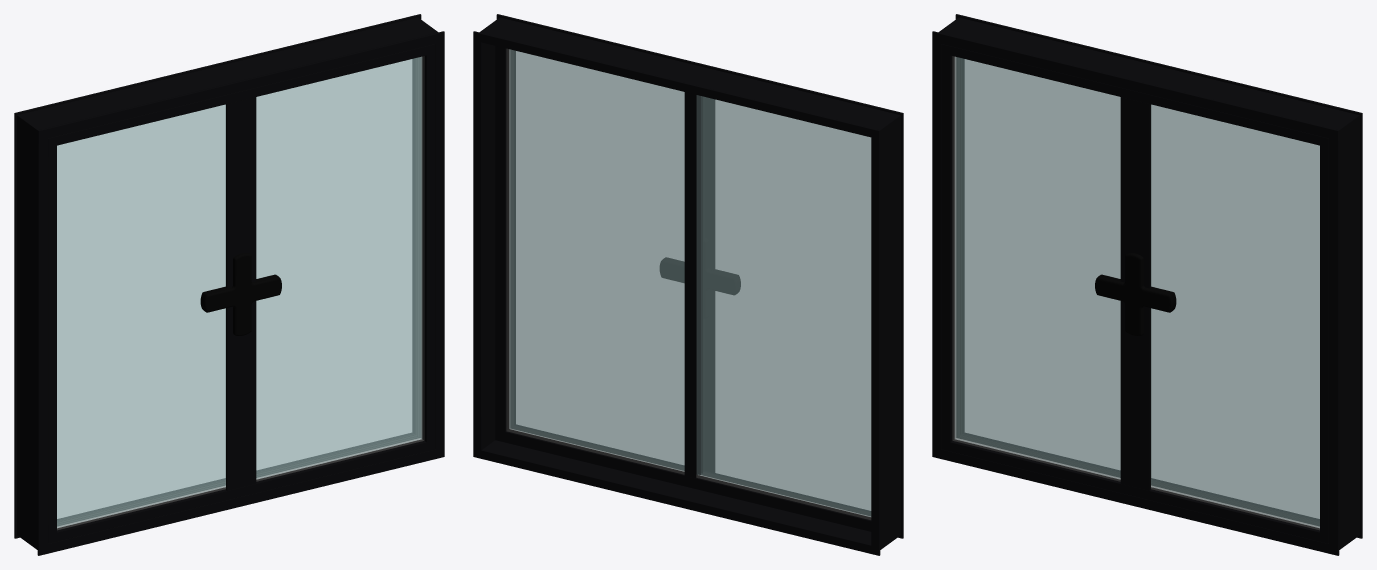
The model's file is FIXED-SYS-DIVIDER.glb.
3 views of the same model, side by side, from view 1: azimuth 30°, elevation 25°; view 2: azimuth 150°, elevation 25°; view 3: azimuth 330°, elevation 25° (orthographic).
Parts seen in each view (by area): view 1: GEO-PNL-1-1-SSH-GLZ-IN, GEO-PNL-1-1-SSH-GLZ-OUT, GEO-GRD-0-0-FRM-SIDE-L, GEO-GRD-0-0-FRM-RAIL-T, GEO-GRD-0-0-FRM-SIDE-R, GEO-GRD-0-0-FRM-RAIL-B, GEO-GRD-0-0-DIVIDER-TSEC-2-000, GEO-PNL-1-1-SSH-ANNO-FIXED-C, GEO-GRD-0-0-FRM-SIDE-L-END-B, GEO-GRD-0-0-FRM-SIDE-L-END-T, GEO-GRD-0-0-FRM-RAIL-T-END-L, GEO-GRD-0-0-FRM-RAIL-T-END-R (+6 smaller); view 2: GEO-PNL-1-1-SSH-GLZ-OUT, GEO-PNL-1-1-SSH-GLZ-IN, GEO-GRD-0-0-FRM-SIDE-R, GEO-GRD-0-0-FRM-RAIL-B, GEO-GRD-0-0-FRM-SIDE-L, GEO-GRD-0-0-FRM-RAIL-T, GEO-GRD-0-0-DIVIDER-TSEC-2-000, GEO-PNL-1-1-SSH-ANNO-FIXED-C, GEO-GRD-0-0-FRM-SIDE-R-END-B, GEO-GRD-0-0-FRM-SIDE-L-END-B, GEO-GRD-0-0-FRM-SIDE-L-END-T, GEO-GRD-0-0-FRM-RAIL-B-END-R (+5 smaller); view 3: GEO-PNL-1-1-SSH-GLZ-IN, GEO-PNL-1-1-SSH-GLZ-OUT, GEO-GRD-0-0-FRM-SIDE-R, GEO-GRD-0-0-FRM-RAIL-T, GEO-GRD-0-0-FRM-SIDE-L, GEO-GRD-0-0-FRM-RAIL-B, GEO-GRD-0-0-DIVIDER-TSEC-2-000, GEO-PNL-1-1-SSH-ANNO-FIXED-C, GEO-GRD-0-0-FRM-SIDE-R-END-B, GEO-GRD-0-0-FRM-SIDE-R-END-T, GEO-GRD-0-0-FRM-RAIL-T-END-R, GEO-GRD-0-0-FRM-RAIL-T-END-L (+6 smaller).
Boxes of the visible parts, x1=… form: GEO-PNL-1-1-SSH-GLZ-IN: x1=57, y1=57, x2=421, y2=527; GEO-PNL-1-1-SSH-GLZ-OUT: x1=57, y1=57, x2=420, y2=525; GEO-GRD-0-0-FRM-SIDE-L: x1=14, y1=155, x2=56, y2=513; GEO-GRD-0-0-FRM-RAIL-T: x1=55, y1=24, x2=404, y2=139; GEO-GRD-0-0-FRM-SIDE-R: x1=412, y1=59, x2=444, y2=418; GEO-GRD-0-0-FRM-RAIL-B: x1=57, y1=439, x2=404, y2=545; GEO-GRD-0-0-DIVIDER-TSEC-2-000: x1=226, y1=120, x2=256, y2=467; GEO-PNL-1-1-SSH-ANNO-FIXED-C: x1=200, y1=253, x2=281, y2=335; GEO-GRD-0-0-FRM-SIDE-L-END-B: x1=14, y1=495, x2=56, y2=555; GEO-GRD-0-0-FRM-SIDE-L-END-T: x1=14, y1=113, x2=56, y2=173; GEO-GRD-0-0-FRM-RAIL-T-END-L: x1=14, y1=103, x2=79, y2=145; GEO-GRD-0-0-FRM-RAIL-T-END-R: x1=380, y1=14, x2=444, y2=60; GEO-PNL-1-1-SSH-GLZ-OUT: x1=509, y1=49, x2=870, y2=516; GEO-PNL-1-1-SSH-GLZ-IN: x1=510, y1=50, x2=870, y2=515; GEO-GRD-0-0-FRM-SIDE-R: x1=473, y1=61, x2=515, y2=416; GEO-GRD-0-0-FRM-RAIL-B: x1=513, y1=430, x2=862, y2=545; GEO-GRD-0-0-FRM-SIDE-L: x1=871, y1=155, x2=903, y2=513; GEO-GRD-0-0-FRM-RAIL-T: x1=513, y1=24, x2=862, y2=129; GEO-GRD-0-0-DIVIDER-TSEC-2-000: x1=684, y1=107, x2=714, y2=454; GEO-PNL-1-1-SSH-ANNO-FIXED-C: x1=660, y1=237, x2=740, y2=318; GEO-GRD-0-0-FRM-SIDE-R-END-B: x1=473, y1=401, x2=515, y2=456; GEO-GRD-0-0-FRM-SIDE-L-END-B: x1=871, y1=495, x2=903, y2=555; GEO-GRD-0-0-FRM-SIDE-L-END-T: x1=871, y1=113, x2=903, y2=173; GEO-GRD-0-0-FRM-RAIL-B-END-R: x1=473, y1=424, x2=536, y2=466; GEO-PNL-1-1-SSH-GLZ-IN: x1=955, y1=57, x2=1319, y2=527; GEO-PNL-1-1-SSH-GLZ-OUT: x1=956, y1=57, x2=1319, y2=525; GEO-GRD-0-0-FRM-SIDE-R: x1=1320, y1=155, x2=1362, y2=513; GEO-GRD-0-0-FRM-RAIL-T: x1=972, y1=24, x2=1321, y2=139; GEO-GRD-0-0-FRM-SIDE-L: x1=932, y1=59, x2=964, y2=418; GEO-GRD-0-0-FRM-RAIL-B: x1=972, y1=439, x2=1319, y2=545; GEO-GRD-0-0-DIVIDER-TSEC-2-000: x1=1120, y1=120, x2=1150, y2=467; GEO-PNL-1-1-SSH-ANNO-FIXED-C: x1=1095, y1=253, x2=1176, y2=335; GEO-GRD-0-0-FRM-SIDE-R-END-B: x1=1320, y1=495, x2=1362, y2=555; GEO-GRD-0-0-FRM-SIDE-R-END-T: x1=1320, y1=113, x2=1362, y2=173; GEO-GRD-0-0-FRM-RAIL-T-END-R: x1=1297, y1=103, x2=1362, y2=145; GEO-GRD-0-0-FRM-RAIL-T-END-L: x1=932, y1=14, x2=996, y2=60.
Bounding box in the file's own units: 1 × 1 × 0.1141.
